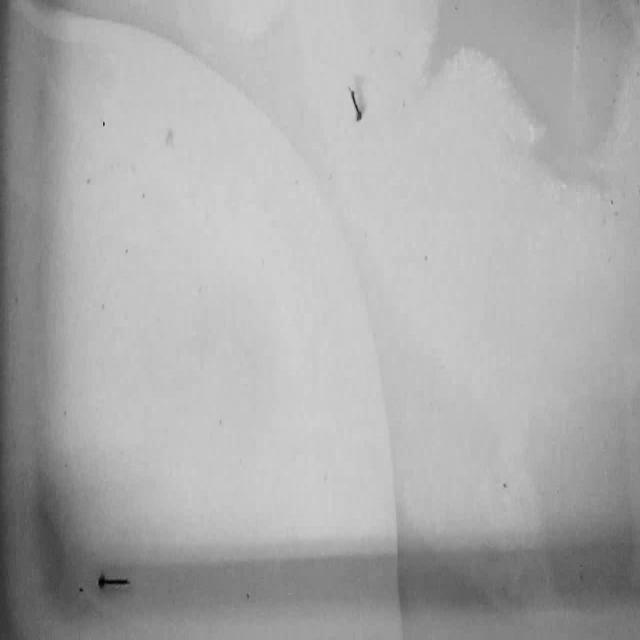larvas: (348, 85, 362, 121)
